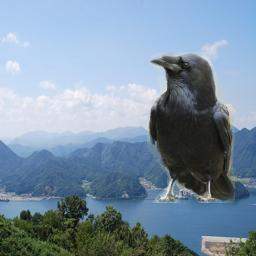Crow: (147, 52, 235, 203)
